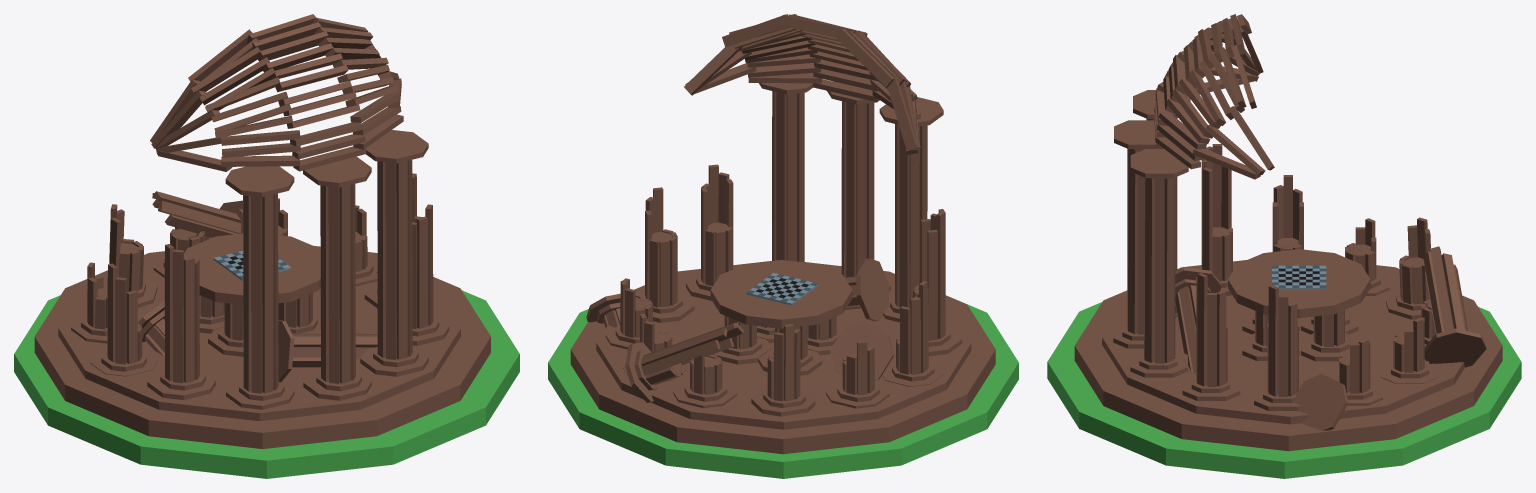
File: Ruin.glb
3 views of the same model, side by side, from view 1: azimuth 30°, elevation 25°; view 2: azimuth 150°, elevation 25°; view 3: azimuth 270°, elevation 25° (orthographic). The views are drawn at different scales.
Visible parts, largest first — view 1: group2057257809, group1742639673, group1001611714, group655118214, group110544972, group1623205986, group571215471, group1393594890, group1596325827, group2109700804, group701727808, group267455475 (+10 smaller); view 2: group1742639673, group1001611714, group655118214, group2057257809, group1596325827, group1623205986, group571215471, group110544972, group701727808, group943463971, group267455475, group1393594890 (+12 smaller); view 3: group1742639673, group1001611714, group655118214, group2057257809, group1623205986, group1596325827, group571215471, group267455475, group701727808, group943463971, group1393594890, group757764438 (+11 smaller).
Part boxes in pixels (bbox=[...]): group2057257809: bbox=[150, 14, 403, 171]; group1742639673: bbox=[14, 290, 519, 478]; group1001611714: bbox=[34, 245, 490, 448]; group655118214: bbox=[58, 253, 460, 421]; group110544972: bbox=[225, 166, 294, 409]; group1623205986: bbox=[360, 130, 428, 376]; group571215471: bbox=[303, 156, 371, 400]; group1393594890: bbox=[147, 244, 215, 399]; group1596325827: bbox=[184, 233, 320, 304]; group2109700804: bbox=[89, 263, 158, 376]; group701727808: bbox=[412, 204, 449, 345]; group267455475: bbox=[152, 191, 243, 240]; group1742639673: bbox=[548, 295, 1018, 478]; group1001611714: bbox=[570, 261, 995, 454]; group655118214: bbox=[596, 269, 971, 429]; group2057257809: bbox=[684, 14, 920, 154]; group1596325827: bbox=[710, 260, 852, 328]; group1623205986: bbox=[759, 73, 812, 262]; group571215471: bbox=[827, 81, 890, 291]; group110544972: bbox=[879, 97, 943, 322]; group701727808: bbox=[686, 164, 733, 300]; group943463971: bbox=[644, 187, 694, 322]; group267455475: bbox=[625, 322, 743, 402]; group1393594890: bbox=[898, 209, 962, 356]; group1742639673: bbox=[1047, 302, 1521, 478]; group1001611714: bbox=[1074, 260, 1502, 451]; group655118214: bbox=[1102, 263, 1476, 424]; group2057257809: bbox=[1154, 14, 1274, 179]; group1623205986: bbox=[1130, 149, 1188, 377]; group1596325827: bbox=[1228, 249, 1370, 318]; group571215471: bbox=[1113, 120, 1158, 348]; group267455475: bbox=[1423, 246, 1486, 367]; group701727808: bbox=[1182, 273, 1240, 400]; group943463971: bbox=[1254, 285, 1301, 410]; group1393594890: bbox=[1197, 144, 1234, 295]; group757764438: bbox=[1386, 217, 1430, 319].
Bounding box in the file's own units: 2.26 × 1.84 × 2.26.
